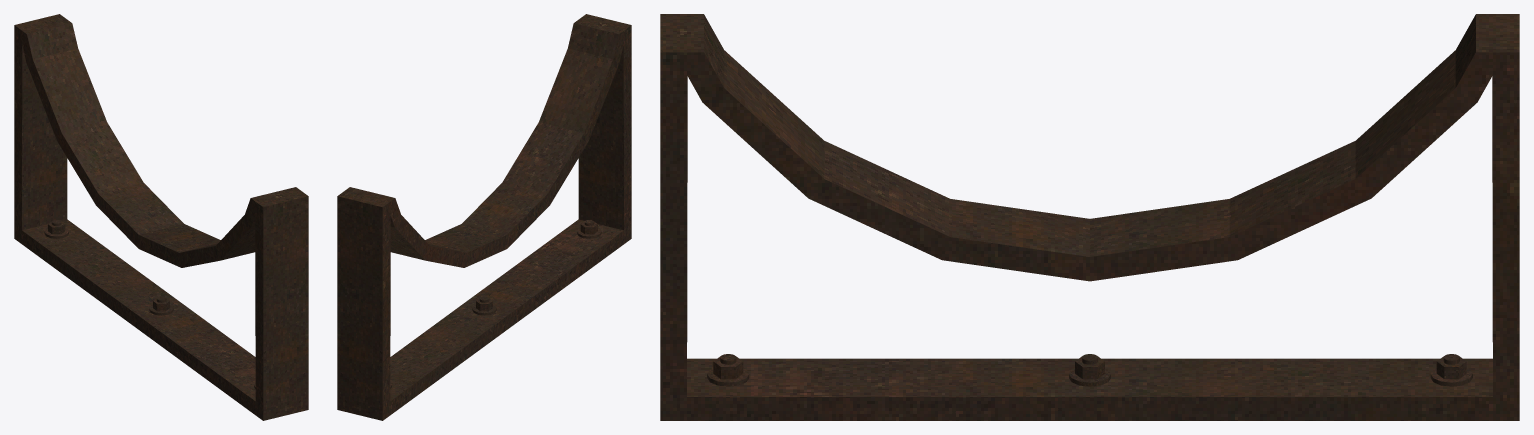
Rendered from stand_mx_1.glb.
3 renders of one model, left to right at view 1: azimuth 30°, elevation 25°; view 2: azimuth 150°, elevation 25°; view 3: azimuth 270°, elevation 25°, orthographic. The views are drawn at different scales.
Parts seen in each view (by area): view 1: stand_mx_1; view 2: stand_mx_1; view 3: stand_mx_1.
Part boxes in pixels (<box>): stand_mx_1: <box>14,14,308,420</box>; stand_mx_1: <box>337,14,631,420</box>; stand_mx_1: <box>660,14,1519,420</box>.
Bounding box in the file's own units: 0.2 × 0.9 × 1.9.
1 material, 1 textured.
